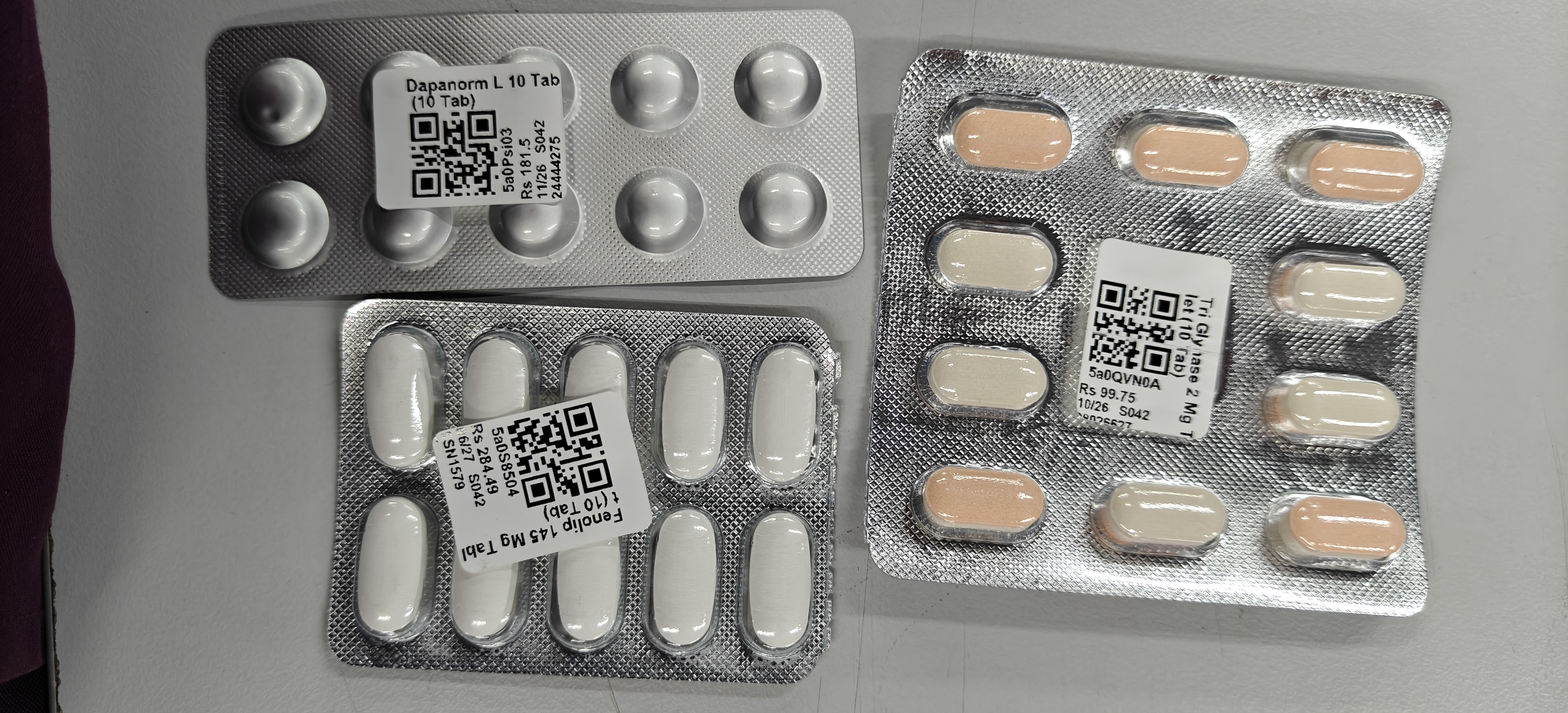qr_code: (506, 402, 612, 508), (1088, 279, 1180, 375), (409, 110, 501, 197)
